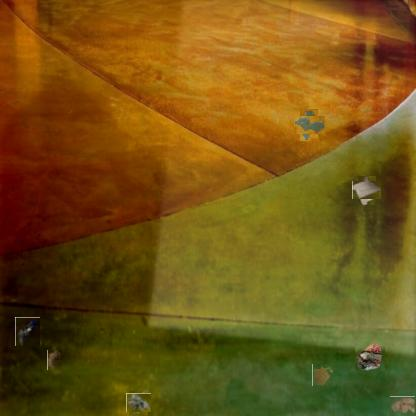dirty: (355, 341, 385, 371), (15, 317, 40, 346), (355, 179, 379, 202), (127, 391, 150, 414), (390, 396, 416, 413), (47, 350, 62, 370)
liquid: (297, 112, 322, 138), (312, 364, 333, 386)
